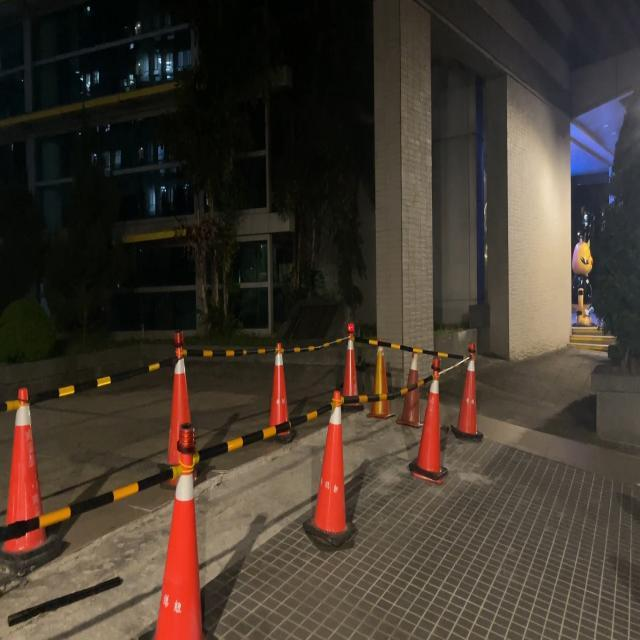traffic cone: (115, 423, 253, 640), (135, 424, 221, 640), (0, 386, 66, 568), (302, 389, 358, 549), (157, 350, 196, 490), (408, 357, 449, 485), (451, 343, 484, 442), (266, 343, 296, 443), (395, 348, 424, 428), (339, 327, 365, 411), (367, 346, 396, 420)
